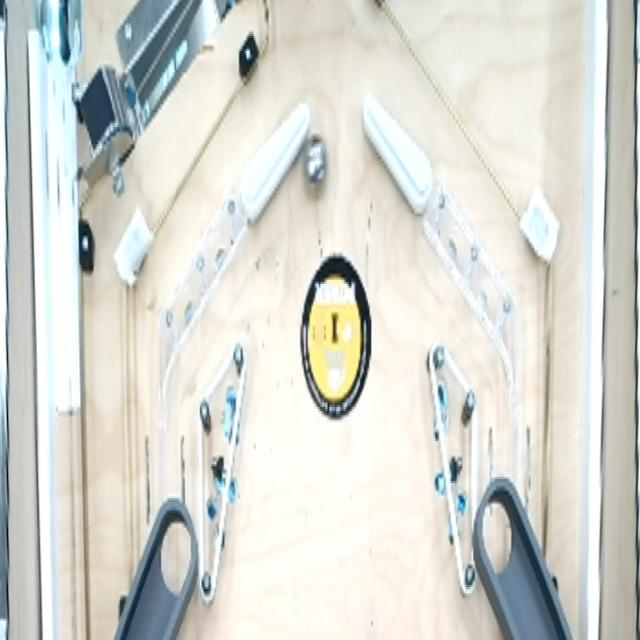ball: (303, 127, 331, 200)
flipper-left: (359, 86, 436, 221)
flipper-right: (238, 94, 311, 223)
